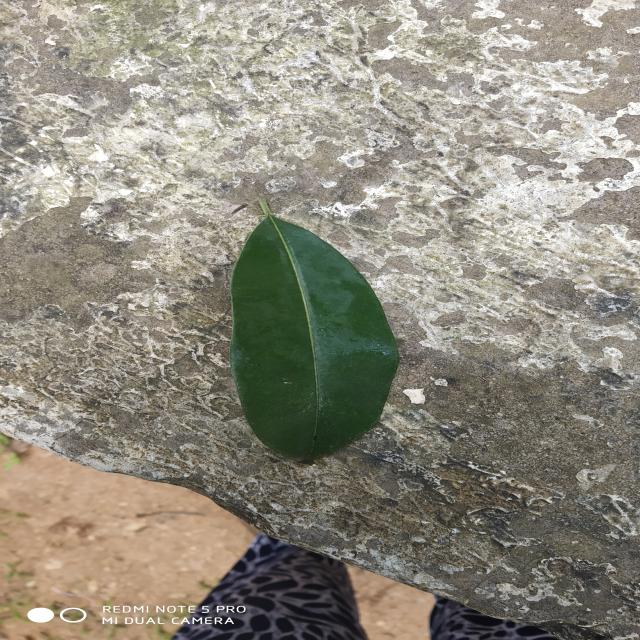sapota: (229, 201, 398, 462)
